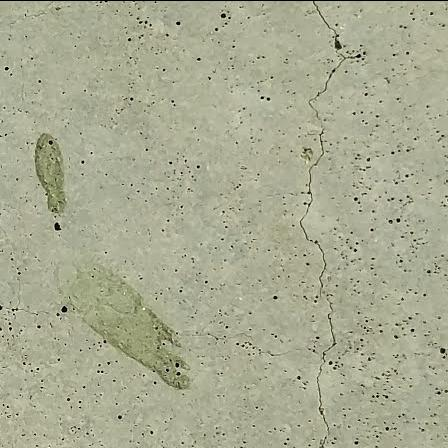crack: (291, 1, 349, 447)
